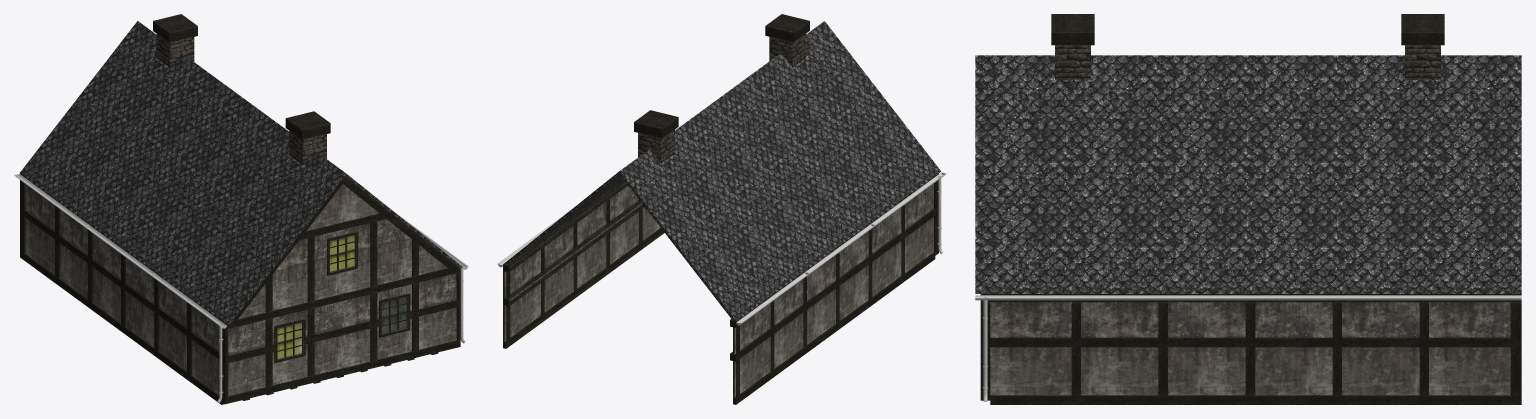
The model's file is pubroof01_lit_01.DAE.
3 renders of one model, left to right at view 1: azimuth 30°, elevation 25°; view 2: azimuth 150°, elevation 25°; view 3: azimuth 270°, elevation 25°, orthographic. The views are drawn at different scales.
Visible parts, largest first — view 1: Object104, Object105, Object103, Object107, Box046, Object115, Object106; view 2: Object104, Object105, Object103, Object107, Box046; view 3: Object104, Object105, Object103, Object107, Box046.
Part boxes in pixels (<box>): Object104: <box>20,21,462,324</box>; Object105: <box>25,184,456,396</box>; Object103: <box>20,14,460,404</box>; Object107: <box>14,174,468,376</box>; Box046: <box>156,34,326,164</box>; Object115: <box>277,235,354,358</box>; Object106: <box>382,297,406,333</box>; Object104: <box>503,21,940,321</box>; Object105: <box>504,182,933,397</box>; Object103: <box>503,14,938,404</box>; Object107: <box>497,172,946,325</box>; Box046: <box>638,34,806,163</box>; Object104: <box>975,55,1521,293</box>; Object105: <box>990,302,1510,395</box>; Object103: <box>980,14,1521,404</box>; Object107: <box>975,295,1521,366</box>; Box046: <box>1055,45,1440,82</box>.
Bounding box in the file's own units: 13.02 × 11.67 × 18.88.
